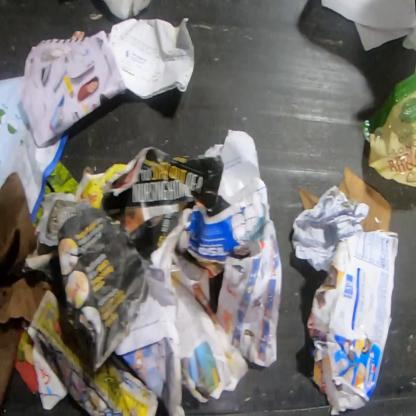cardboard: (307, 229, 400, 415), (0, 172, 54, 326), (338, 166, 392, 232)
soft_plastic: (361, 70, 415, 190)
